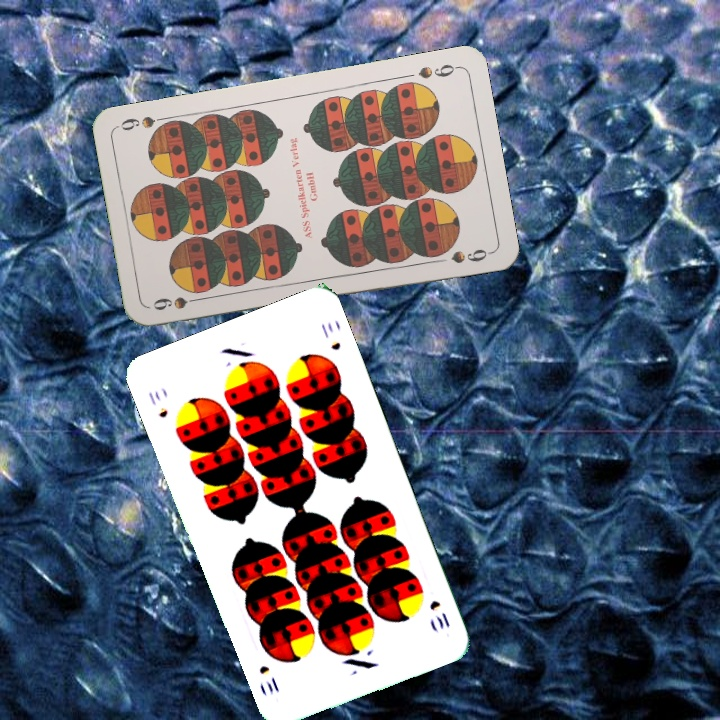S10: (425, 596, 453, 632), (144, 386, 171, 420)
S9: (149, 292, 207, 313), (414, 60, 461, 82)
